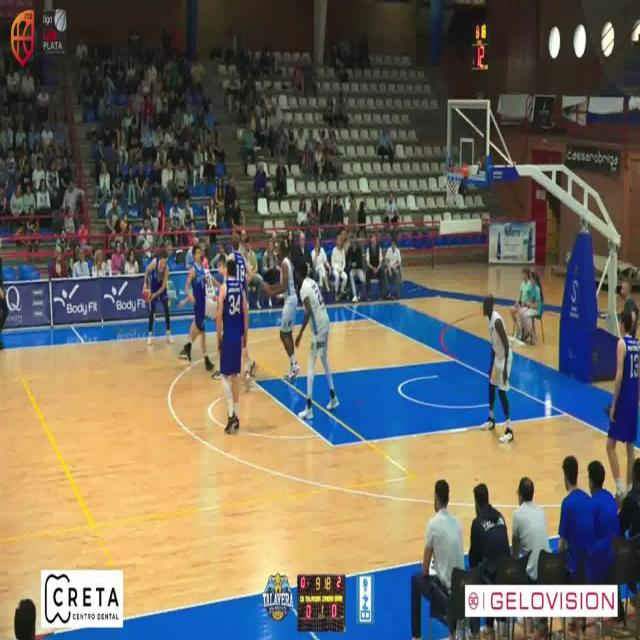ball: (141, 276, 151, 302)
basket: (446, 168, 464, 206)
player: (295, 264, 339, 419), (608, 311, 640, 507), (216, 258, 248, 433), (264, 239, 300, 381), (482, 294, 515, 443), (178, 242, 214, 370), (142, 250, 173, 345), (233, 232, 249, 304), (202, 255, 215, 317)
referee: (620, 275, 640, 337), (0, 257, 7, 349)
